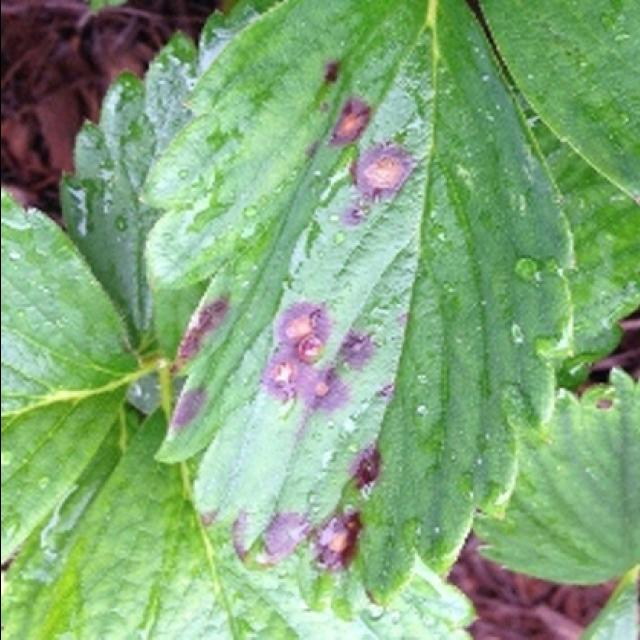Leaf Spot: (134, 0, 575, 623)
